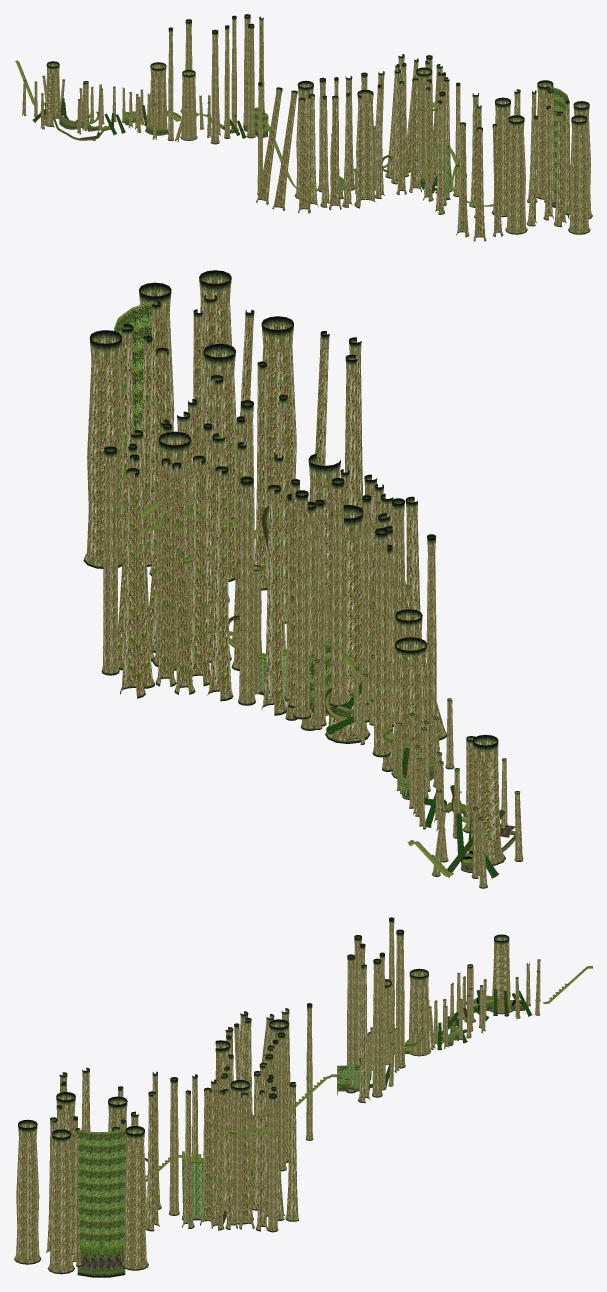
File: GreenForestOld.obj
3 renders of one model, top to bottom at view 1: azimuth 30°, elevation 25°; view 2: azimuth 150°, elevation 25°; view 3: azimuth 270°, elevation 25°, orthographic. The views are drawn at different scales.
Size of the model in its own units: 12188 by 5037 by 13379.
Materials: 24 (24 with a texture image).
